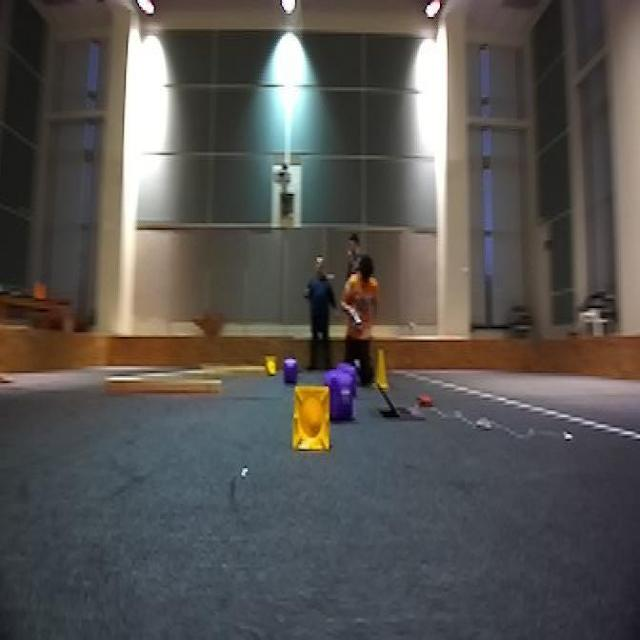frc_cone: (291, 382, 338, 462), (372, 349, 392, 388), (264, 351, 281, 378)
frc_cube: (331, 372, 356, 418), (280, 356, 299, 378)
